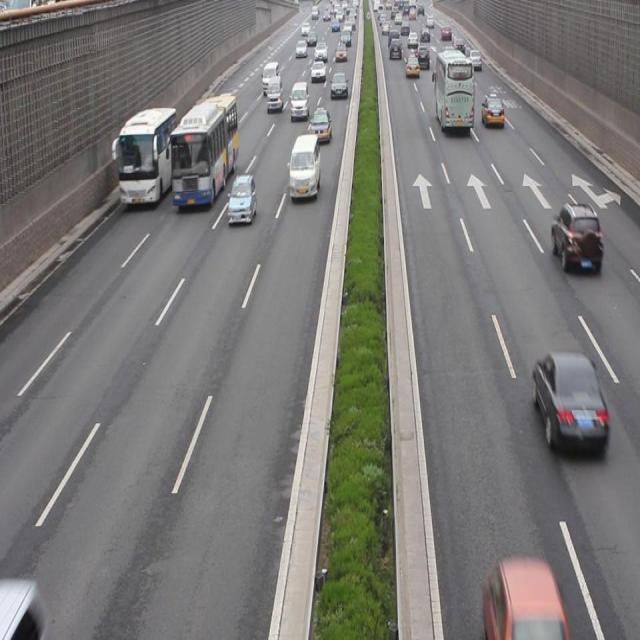car: (530, 356, 607, 452), (548, 200, 600, 274), (228, 175, 256, 224), (479, 94, 504, 126), (310, 106, 330, 142)
truck: (290, 133, 320, 201)
van: (169, 96, 239, 210), (118, 109, 175, 206), (434, 51, 474, 135)
